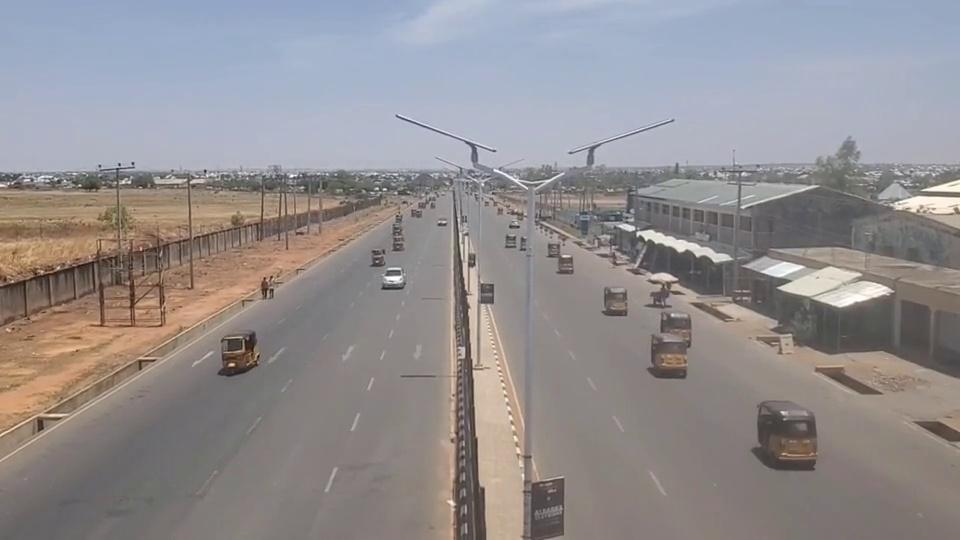keke: (755, 399, 817, 467), (219, 329, 260, 374)
